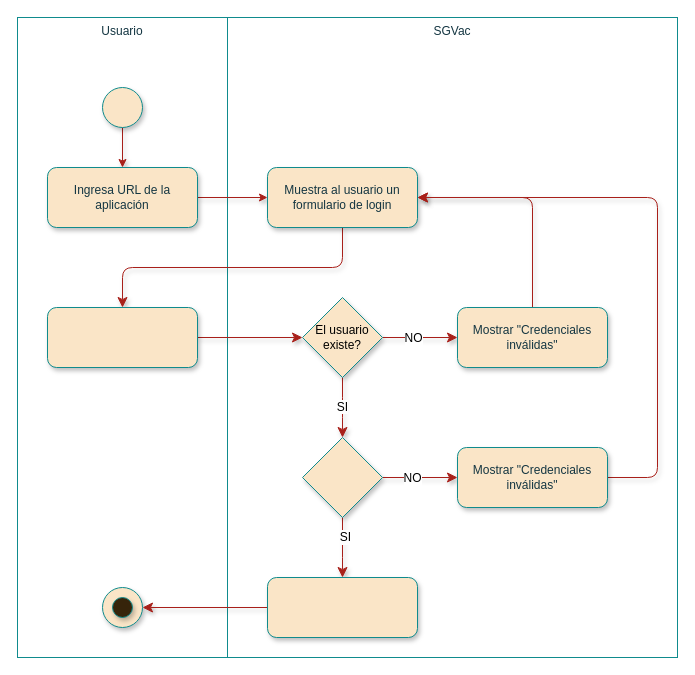
This 695x675 diagram has some shape labels left out. Each missing label, with the centre of its shape:
Contraseña válida?: (343,478)
Genera token, registra ingreso y muestra opciones personales: (343,608)
Introduce su nombre de usuario y contraseña: (123,338)
